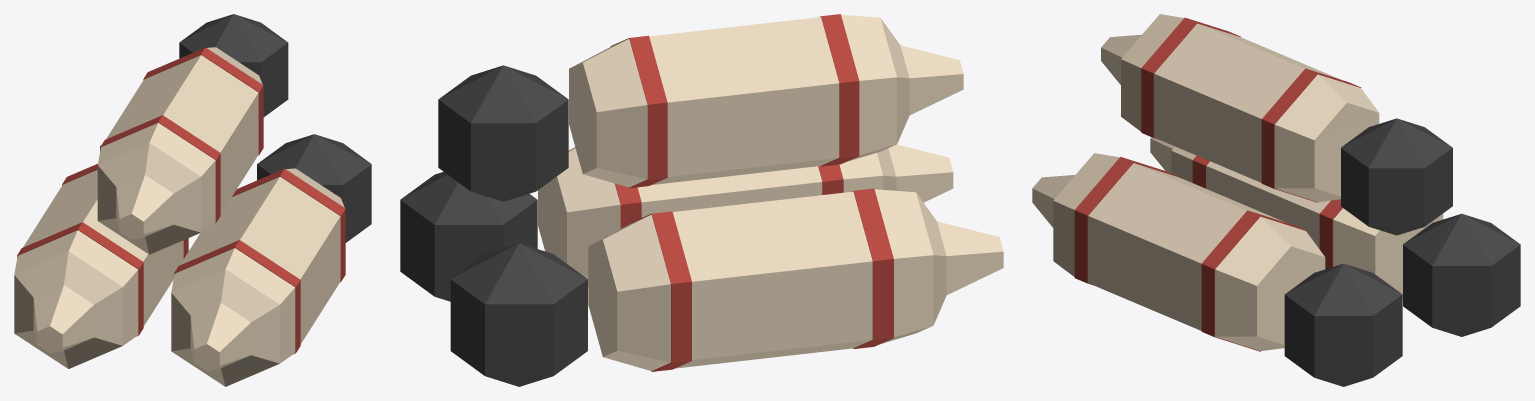
The model's file is ce_ammo2_powder_burst_b.obj.
The picture shows the model from 3 angles, left to right: view 1: azimuth 30°, elevation 25°; view 2: azimuth 150°, elevation 25°; view 3: azimuth 270°, elevation 25°; orthographic projection. The views are drawn at different scales.
Parts seen in each view (by area): view 1: ce_ammo2_powder_burst_b_12, ce_ammo2_powder_burst_b_20, ce_ammo2_powder_burst_b_9, ce_ammo2_powder_burst_b_1, ce_ammo2_powder_burst_b_17, ce_ammo2_powder_burst_b_15, ce_ammo2_powder_burst_b_4, ce_ammo2_powder_burst_b_23, ce_ammo2_powder_burst_b_10, ce_ammo2_powder_burst_b_2, ce_ammo2_powder_burst_b_0, ce_ammo2_powder_burst_b_8 (+10 smaller); view 2: ce_ammo2_powder_burst_b_4, ce_ammo2_powder_burst_b_20, ce_ammo2_powder_burst_b_7, ce_ammo2_powder_burst_b_23, ce_ammo2_powder_burst_b_15, ce_ammo2_powder_burst_b_6, ce_ammo2_powder_burst_b_22, ce_ammo2_powder_burst_b_14, ce_ammo2_powder_burst_b_2, ce_ammo2_powder_burst_b_12, ce_ammo2_powder_burst_b_18, ce_ammo2_powder_burst_b_3 (+12 smaller); view 3: ce_ammo2_powder_burst_b_12, ce_ammo2_powder_burst_b_20, ce_ammo2_powder_burst_b_15, ce_ammo2_powder_burst_b_7, ce_ammo2_powder_burst_b_23, ce_ammo2_powder_burst_b_14, ce_ammo2_powder_burst_b_22, ce_ammo2_powder_burst_b_6, ce_ammo2_powder_burst_b_4, ce_ammo2_powder_burst_b_10, ce_ammo2_powder_burst_b_18, ce_ammo2_powder_burst_b_11 (+9 smaller).
Part boxes in pixels (bbox=[...]): ce_ammo2_powder_burst_b_12: bbox=[180, 177, 340, 343]; ce_ammo2_powder_burst_b_20: bbox=[106, 55, 258, 213]; ce_ammo2_powder_burst_b_9: bbox=[171, 269, 279, 386]; ce_ammo2_powder_burst_b_1: bbox=[14, 251, 122, 368]; ce_ammo2_powder_burst_b_17: bbox=[97, 143, 200, 254]; ce_ammo2_powder_burst_b_15: bbox=[257, 134, 371, 242]; ce_ammo2_powder_burst_b_4: bbox=[23, 170, 183, 326]; ce_ammo2_powder_burst_b_23: bbox=[179, 14, 288, 116]; ce_ammo2_powder_burst_b_10: bbox=[171, 248, 295, 363]; ce_ammo2_powder_burst_b_2: bbox=[14, 230, 138, 345]; ce_ammo2_powder_burst_b_0: bbox=[33, 285, 93, 353]; ce_ammo2_powder_burst_b_8: bbox=[190, 303, 250, 370]; ce_ammo2_powder_burst_b_4: bbox=[672, 191, 872, 368]; ce_ammo2_powder_burst_b_20: bbox=[649, 17, 839, 184]; ce_ammo2_powder_burst_b_7: bbox=[450, 243, 587, 386]; ce_ammo2_powder_burst_b_23: bbox=[438, 65, 568, 201]; ce_ammo2_powder_burst_b_15: bbox=[400, 172, 537, 301]; ce_ammo2_powder_burst_b_6: bbox=[588, 214, 670, 370]; ce_ammo2_powder_burst_b_22: bbox=[569, 39, 647, 187]; ce_ammo2_powder_burst_b_14: bbox=[538, 147, 620, 287]; ce_ammo2_powder_burst_b_2: bbox=[874, 189, 933, 343]; ce_ammo2_powder_burst_b_12: bbox=[637, 166, 822, 217]; ce_ammo2_powder_burst_b_18: bbox=[841, 14, 896, 161]; ce_ammo2_powder_burst_b_3: bbox=[852, 188, 893, 348]; ce_ammo2_powder_burst_b_12: bbox=[1088, 163, 1283, 330]; ce_ammo2_powder_burst_b_20: bbox=[1154, 23, 1339, 182]; ce_ammo2_powder_burst_b_15: bbox=[1284, 263, 1402, 386]; ce_ammo2_powder_burst_b_7: bbox=[1403, 213, 1520, 336]; ce_ammo2_powder_burst_b_23: bbox=[1341, 118, 1452, 235]; ce_ammo2_powder_burst_b_14: bbox=[1215, 216, 1325, 350]; ce_ammo2_powder_burst_b_22: bbox=[1274, 74, 1379, 201]; ce_ammo2_powder_burst_b_6: bbox=[1333, 208, 1443, 297]; ce_ammo2_powder_burst_b_4: bbox=[1206, 161, 1330, 248]; ce_ammo2_powder_burst_b_10: bbox=[1053, 153, 1119, 276]; ce_ammo2_powder_burst_b_18: bbox=[1121, 14, 1183, 131]; ce_ammo2_powder_burst_b_11: bbox=[1074, 157, 1179, 285].
Bounding box in the file's own units: 0.7767 × 0.4501 × 0.7894.
